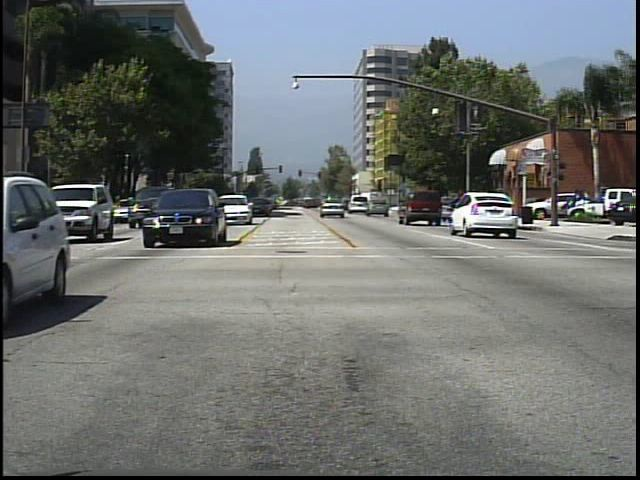person: (437, 192, 457, 224), (474, 188, 492, 218)
